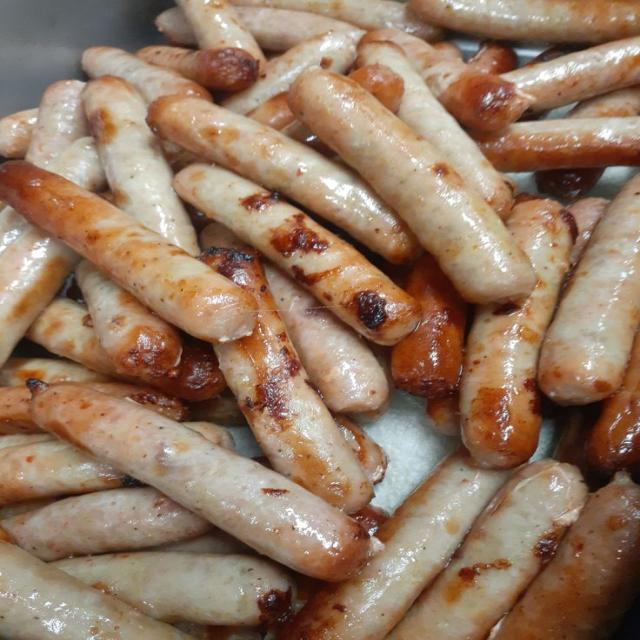sausage: (31, 383, 376, 581), (289, 70, 534, 303), (0, 161, 255, 341), (200, 248, 373, 512), (148, 97, 420, 263), (174, 165, 418, 344), (280, 452, 508, 639), (387, 460, 586, 639), (460, 199, 576, 467), (357, 41, 512, 217), (495, 473, 639, 639), (539, 177, 639, 404), (82, 77, 199, 255), (27, 298, 226, 401), (0, 542, 191, 639), (266, 265, 389, 413), (54, 552, 293, 625), (361, 29, 530, 131), (0, 487, 211, 561), (76, 261, 182, 377), (0, 208, 77, 365), (222, 32, 358, 114), (391, 255, 466, 400), (0, 226, 78, 365), (503, 36, 639, 111), (410, 0, 639, 43), (474, 117, 639, 172), (0, 440, 139, 504), (0, 440, 139, 503), (234, 0, 441, 40), (26, 298, 120, 377), (587, 333, 639, 472), (82, 47, 211, 103), (177, 0, 266, 68), (236, 6, 364, 52), (140, 336, 226, 401), (137, 46, 258, 91), (26, 81, 88, 167), (554, 404, 606, 489), (86, 383, 187, 421), (334, 415, 387, 484), (49, 137, 107, 193), (50, 137, 106, 192), (568, 198, 609, 267), (147, 528, 254, 554), (349, 64, 404, 112), (567, 87, 639, 118), (281, 121, 337, 159), (190, 389, 246, 426), (0, 386, 40, 435), (247, 91, 295, 130), (0, 109, 38, 158), (155, 7, 198, 47), (469, 40, 517, 74), (174, 622, 265, 639), (183, 421, 235, 450), (427, 391, 460, 436), (526, 42, 585, 65), (200, 222, 246, 251), (0, 498, 56, 519), (351, 505, 390, 535), (0, 432, 52, 448), (434, 41, 463, 60)
